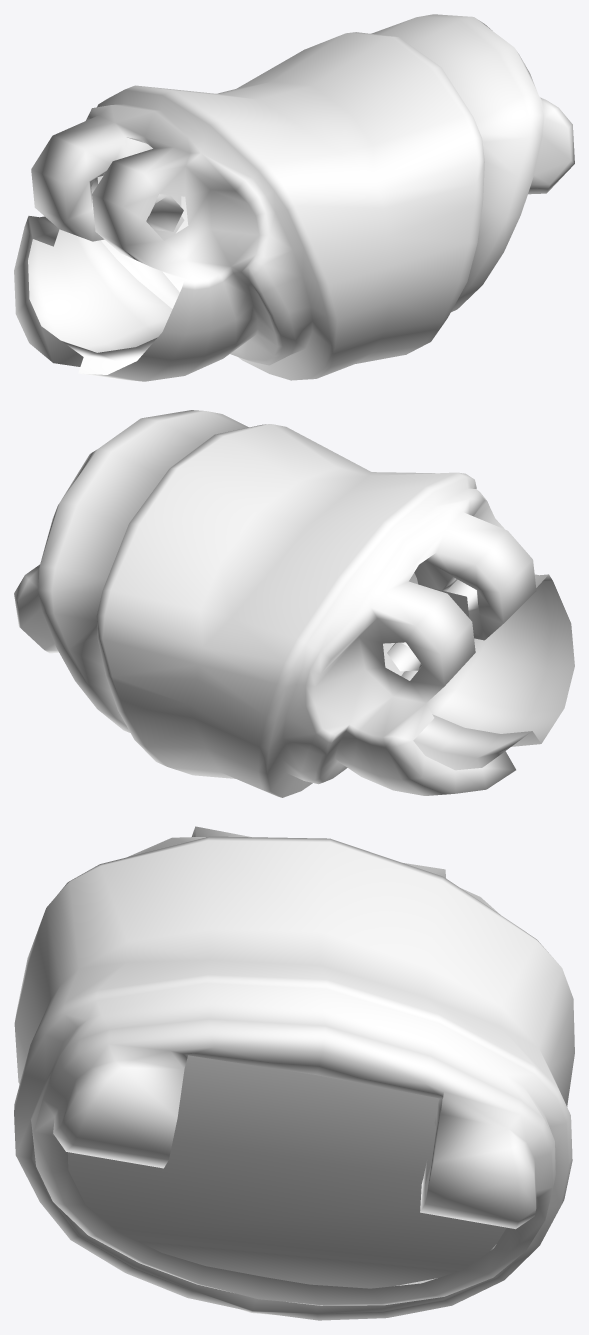
Rendered from LFinger21.dae.
The picture shows the model from 3 angles, top to bottom: view 1: azimuth 30°, elevation 25°; view 2: azimuth 150°, elevation 25°; view 3: azimuth 270°, elevation 25°; orthographic projection. The views are drawn at different scales.
Visible parts, largest first — view 1: LFinger21; view 2: LFinger21; view 3: LFinger21.
Boxes of the visible parts, left/top/right/bottom form: LFinger21: left=14, top=14, right=574, bottom=381; LFinger21: left=14, top=410, right=574, bottom=797; LFinger21: left=14, top=826, right=574, bottom=1320.
Size of the model in its own units: 0.1938 by 0.1588 by 0.1204.
Materials: 1 (1 with a texture image).
